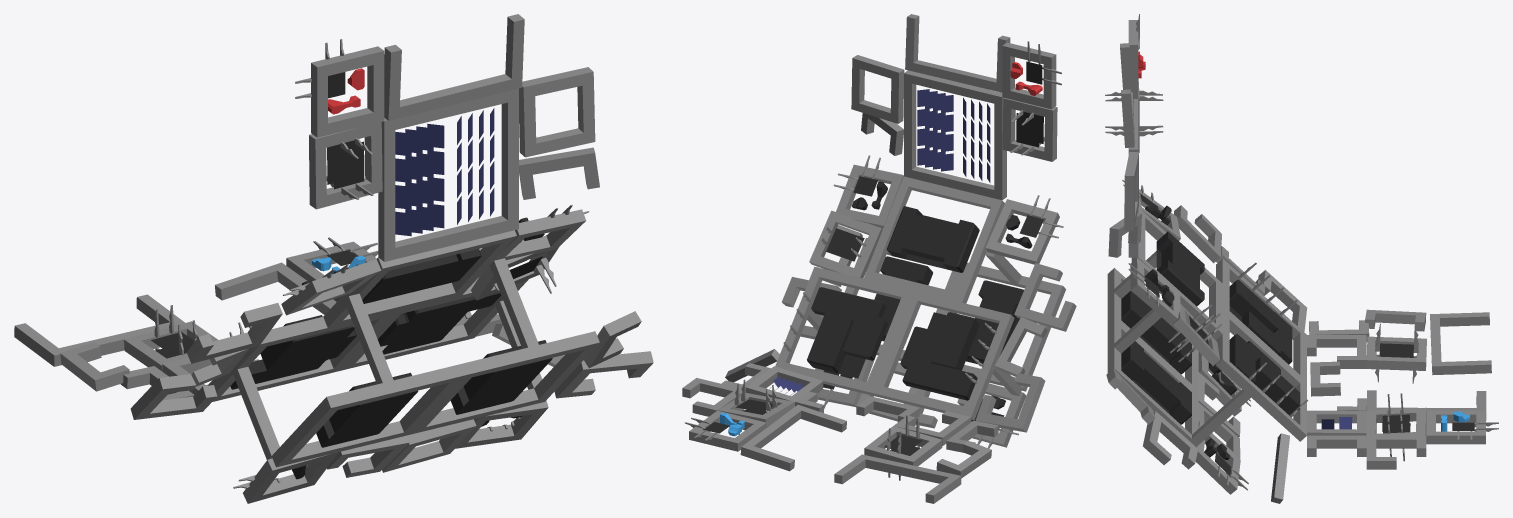
Rendered from StarbaseAtlasProjectPvP.glb.
3 renders of one model, left to right at view 1: azimuth 30°, elevation 25°; view 2: azimuth 150°, elevation 25°; view 3: azimuth 270°, elevation 25°, orthographic. The views are drawn at different scales.
Visible parts, largest first — view 1: Block_Solar.006, Block_Ship_Hangars.006, Block_Ship_Hangars.007, Block_Ship_Hangars.005, Block_Ship_Shop_Black.001, Block_Ship_Shop_Black.002, Quarter_Block_Spawn_Red.001, Quarter_Block_Towers.156, Block_Half.022, Quarter_Block.622, Block_Half.023, Quarter_Block_Towers.154 (+20 smaller); view 2: Block_Ship_Shop_Black.001, Block_Ship_Shop_Black.002, Block_Solar.006, Block_Ship_Hangars.005, Block_Ship_Hangars.006, Quarter_Block_Spawn.001, Quarter_Block_Spawn_Red.001, Quarter_Block_Towers.156, Quarter_Block_Towers.155, Quarter_Block_Spawn.002, Quarter_Block.622, Block_Half.022 (+22 smaller); view 3: Block_Ship_Shop_Black.002, Block_Ship_Hangars.007, Block_Ship_Shop_Black.001, Block_Ship_Hangars.005, Block_Ship_Hangars.006, Quarter_Block_Towers.154, Quarter_Block_Spawn_Kingdom.001, Block_Half.023, Quarter_Block_Spawn.002, Quarter_Block_Spawn.004, Quarter_Block_Towers.153, Quarter_Block_Towers.155 (+25 smaller).
Part boxes in pixels (left/top/right/bottom): Block_Solar.006: left=378, top=88, right=518, bottom=261; Block_Ship_Hangars.006: left=271, top=364, right=465, bottom=467; Block_Ship_Hangars.007: left=411, top=331, right=599, bottom=434; Block_Ship_Hangars.005: left=323, top=230, right=516, bottom=327; Block_Ship_Shop_Black.001: left=208, top=311, right=394, bottom=401; Block_Ship_Shop_Black.002: left=340, top=278, right=528, bottom=370; Quarter_Block_Spawn_Red.001: left=295, top=39, right=384, bottom=137; Quarter_Block_Towers.156: left=309, top=122, right=382, bottom=209; Block_Half.022: left=384, top=14, right=524, bottom=120; Quarter_Block.622: left=519, top=67, right=595, bottom=157; Block_Half.023: left=14, top=294, right=184, bottom=366; Quarter_Block_Towers.154: left=124, top=305, right=218, bottom=371; Block_Ship_Shop_Black.001: left=873, top=291, right=1014, bottom=420; Block_Ship_Shop_Black.002: left=775, top=266, right=912, bottom=396; Block_Solar.006: left=904, top=70, right=1006, bottom=200; Block_Ship_Hangars.005: left=864, top=176, right=1004, bottom=303; Block_Ship_Hangars.006: left=944, top=262, right=1065, bottom=391; Quarter_Block_Spawn.001: left=985, top=195, right=1063, bottom=264; Quarter_Block_Spawn_Red.001: left=1002, top=41, right=1061, bottom=109; Quarter_Block_Towers.156: left=1002, top=98, right=1057, bottom=161; Quarter_Block_Towers.155: left=809, top=210, right=882, bottom=278; Quarter_Block_Spawn.002: left=833, top=155, right=903, bottom=228; Quarter_Block.622: left=851, top=55, right=904, bottom=123; Block_Half.022: left=905, top=14, right=1010, bottom=92; Block_Ship_Shop_Black.002: left=1216, top=309, right=1308, bottom=441; Block_Ship_Hangars.007: left=1107, top=318, right=1198, bottom=446; Block_Ship_Shop_Black.001: left=1216, top=258, right=1306, bottom=384; Block_Ship_Hangars.005: left=1131, top=208, right=1222, bottom=339; Block_Ship_Hangars.006: left=1107, top=268, right=1198, bottom=393; Quarter_Block_Towers.154: left=1366, top=323, right=1426, bottom=383; Quarter_Block_Spawn_Kingdom.001: left=1426, top=410, right=1498, bottom=444; Block_Half.023: left=1430, top=312, right=1491, bottom=375; Quarter_Block_Spawn.002: left=1128, top=258, right=1180, bottom=326; Quarter_Block_Spawn.004: left=1195, top=421, right=1248, bottom=494; Quarter_Block_Towers.153: left=1366, top=393, right=1426, bottom=461; Quarter_Block_Towers.155: left=1168, top=303, right=1222, bottom=365.
Size of the model in its own units: 1169 by 1326 by 1222.
